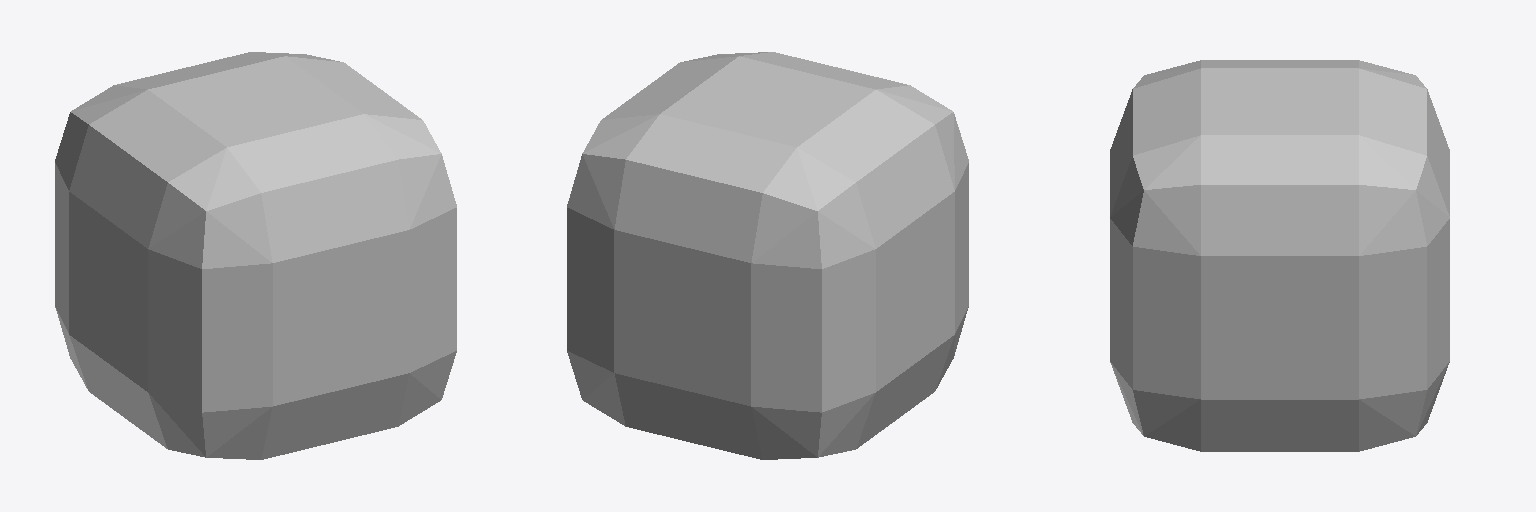
The model's file is CuboPeluche.obj.
3 views of the same model, side by side, from view 1: azimuth 30°, elevation 25°; view 2: azimuth 150°, elevation 25°; view 3: azimuth 270°, elevation 25° (orthographic).
Parts seen in each view (by area): view 1: DadoPeluche; view 2: DadoPeluche; view 3: DadoPeluche.
Boxes of the visible parts, box(x1,y1,x2,y2) form: DadoPeluche: box(55, 52, 456, 459); DadoPeluche: box(567, 52, 968, 459); DadoPeluche: box(1110, 60, 1449, 451).
Size of the model in its own units: 11.81 by 11.81 by 11.81.